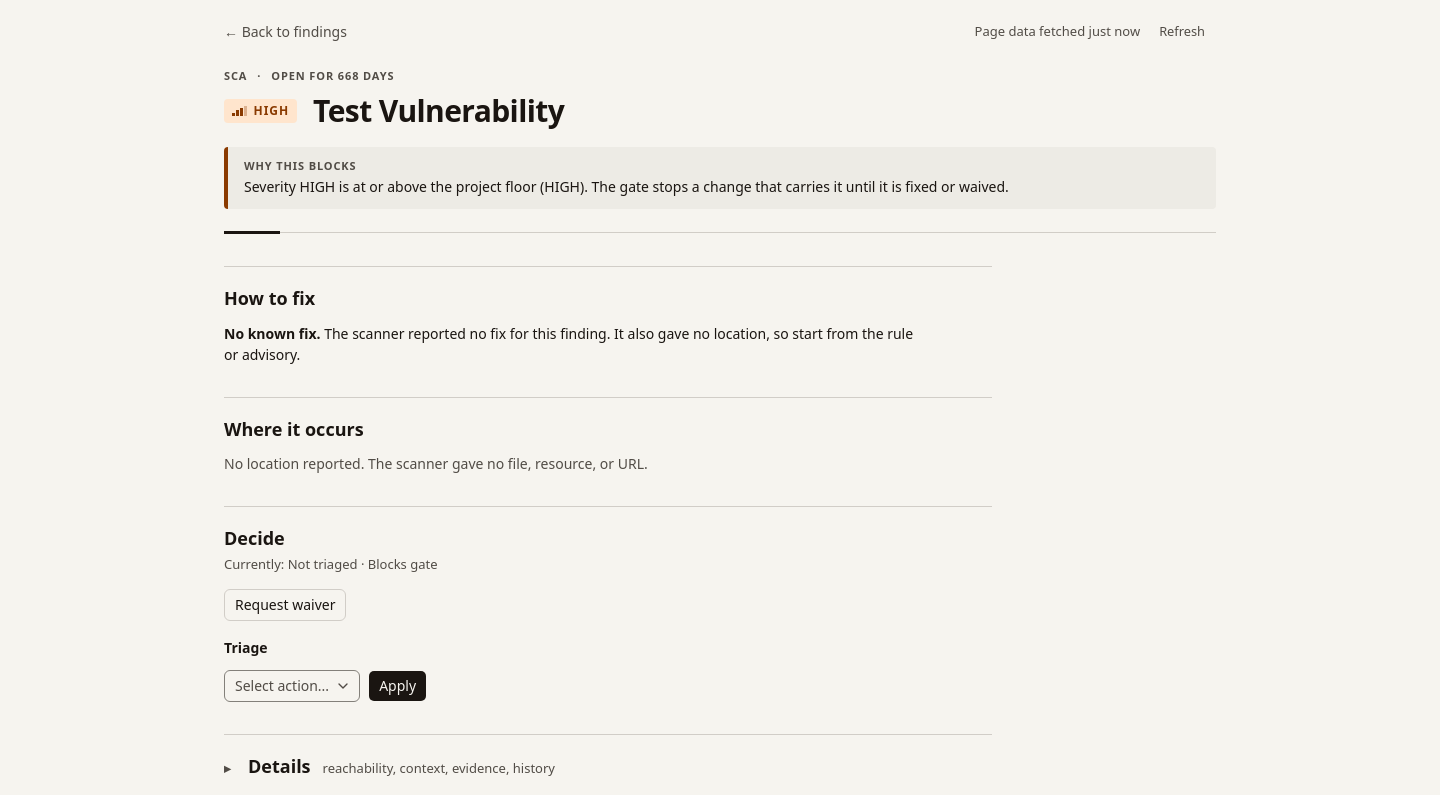
Scenario: FindingDetail CVE block › renders the loaded CVE block inside the details in fix-first mode
Expected: the heading "Test Vulnerability" is shown, [313,94,564,127]
Expected: the heading "CVE details" is not shown
Click the button "▸ Details reachability, context, evidence, history" at (279, 766), box [224,751,992,783]
(page scrolled)
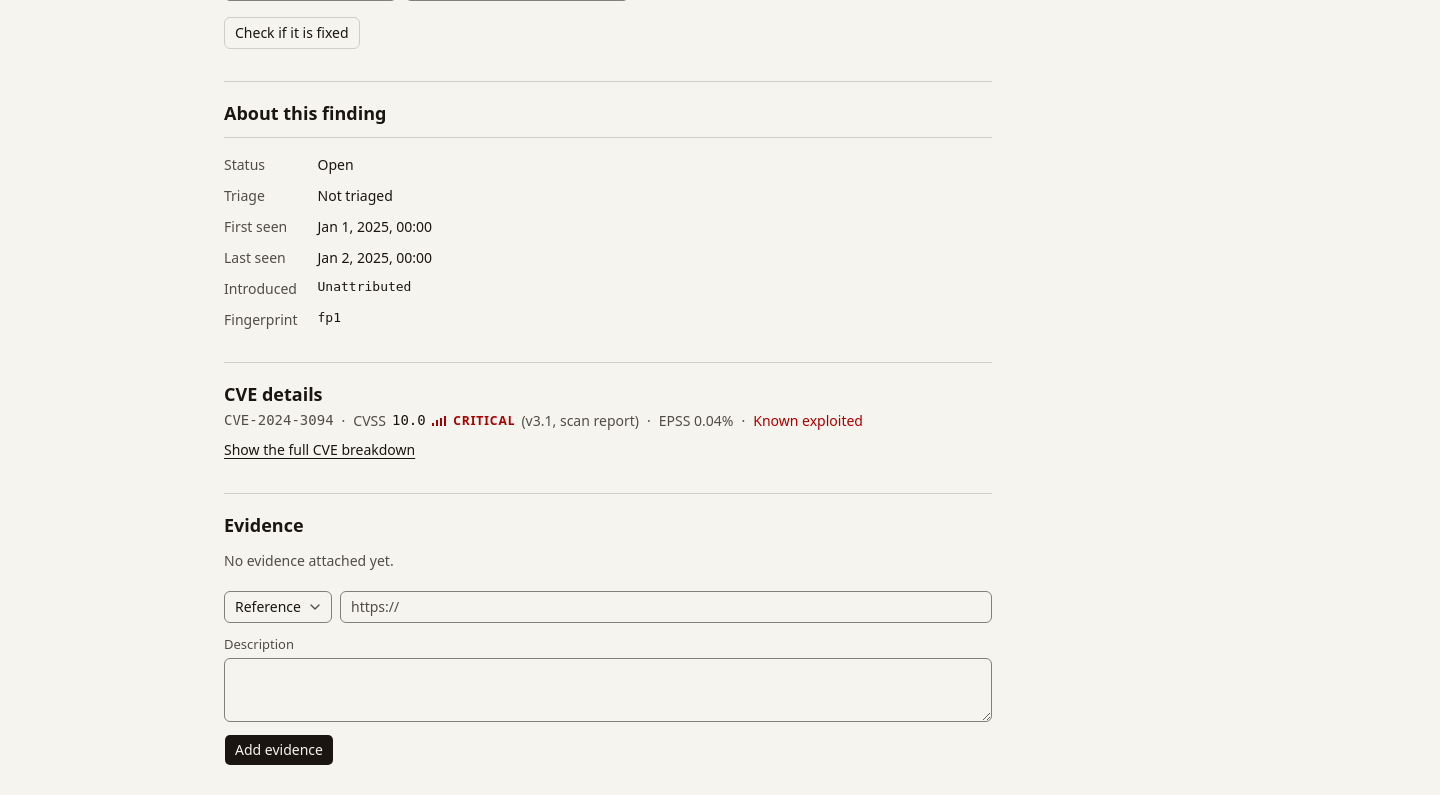
Result: the heading "CVE details" is shown at [224,382,323,406]
